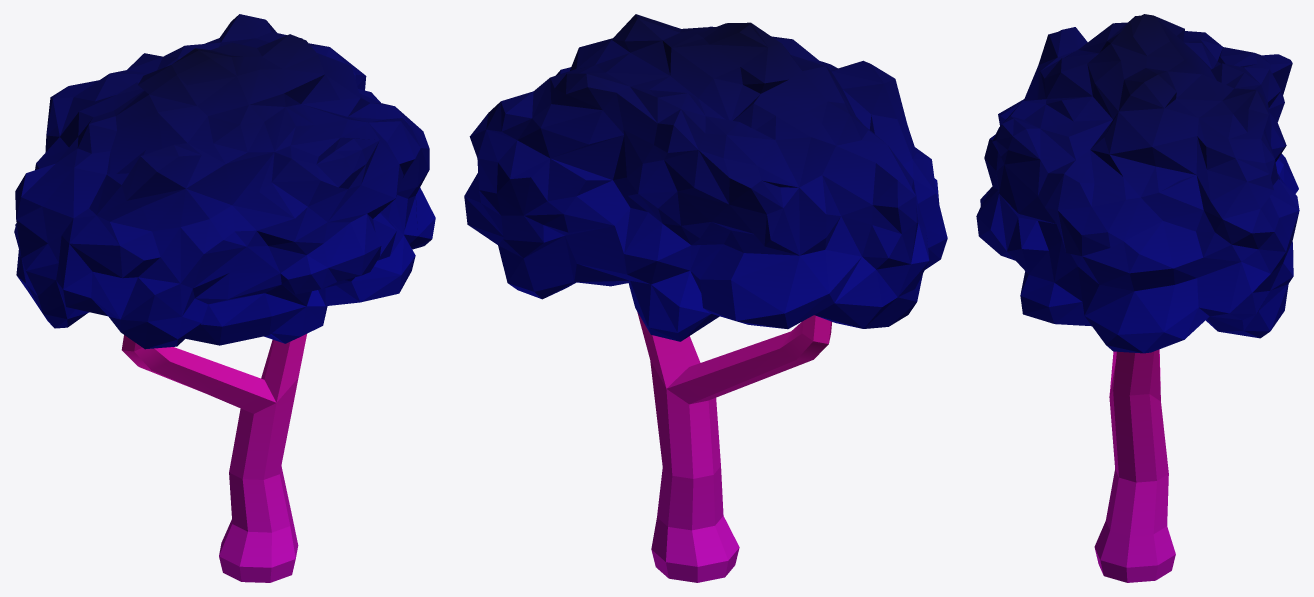
Rendered from SM_Tree_Round_05.gltf.
The picture shows the model from 3 angles, left to right: view 1: azimuth 30°, elevation 25°; view 2: azimuth 150°, elevation 25°; view 3: azimuth 270°, elevation 25°; orthographic projection. The views are drawn at different scales.
Visible parts, largest first — view 1: SM_Tree_Round_05; view 2: SM_Tree_Round_05; view 3: SM_Tree_Round_05.
Part boxes in pixels (bbox=[...]): SM_Tree_Round_05: bbox=[14, 14, 435, 582]; SM_Tree_Round_05: bbox=[464, 14, 947, 582]; SM_Tree_Round_05: bbox=[976, 14, 1299, 582].
Size of the model in its own units: 3.8 by 4.85 by 2.65.
